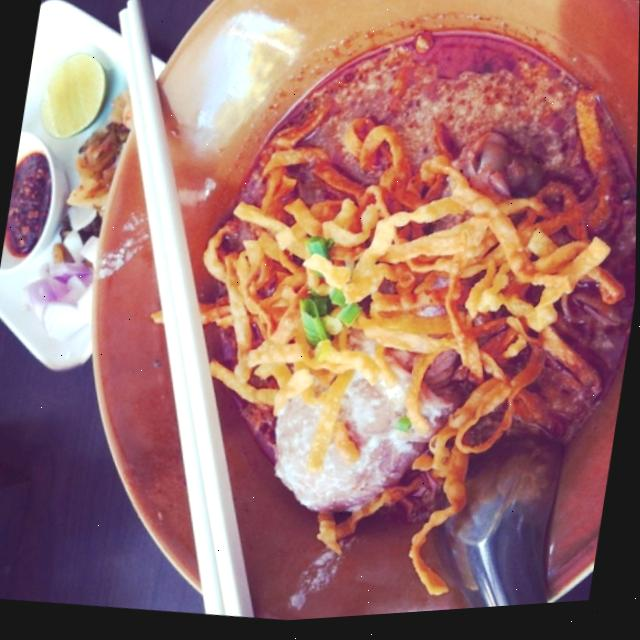面条主食: (8, 0, 640, 639)
